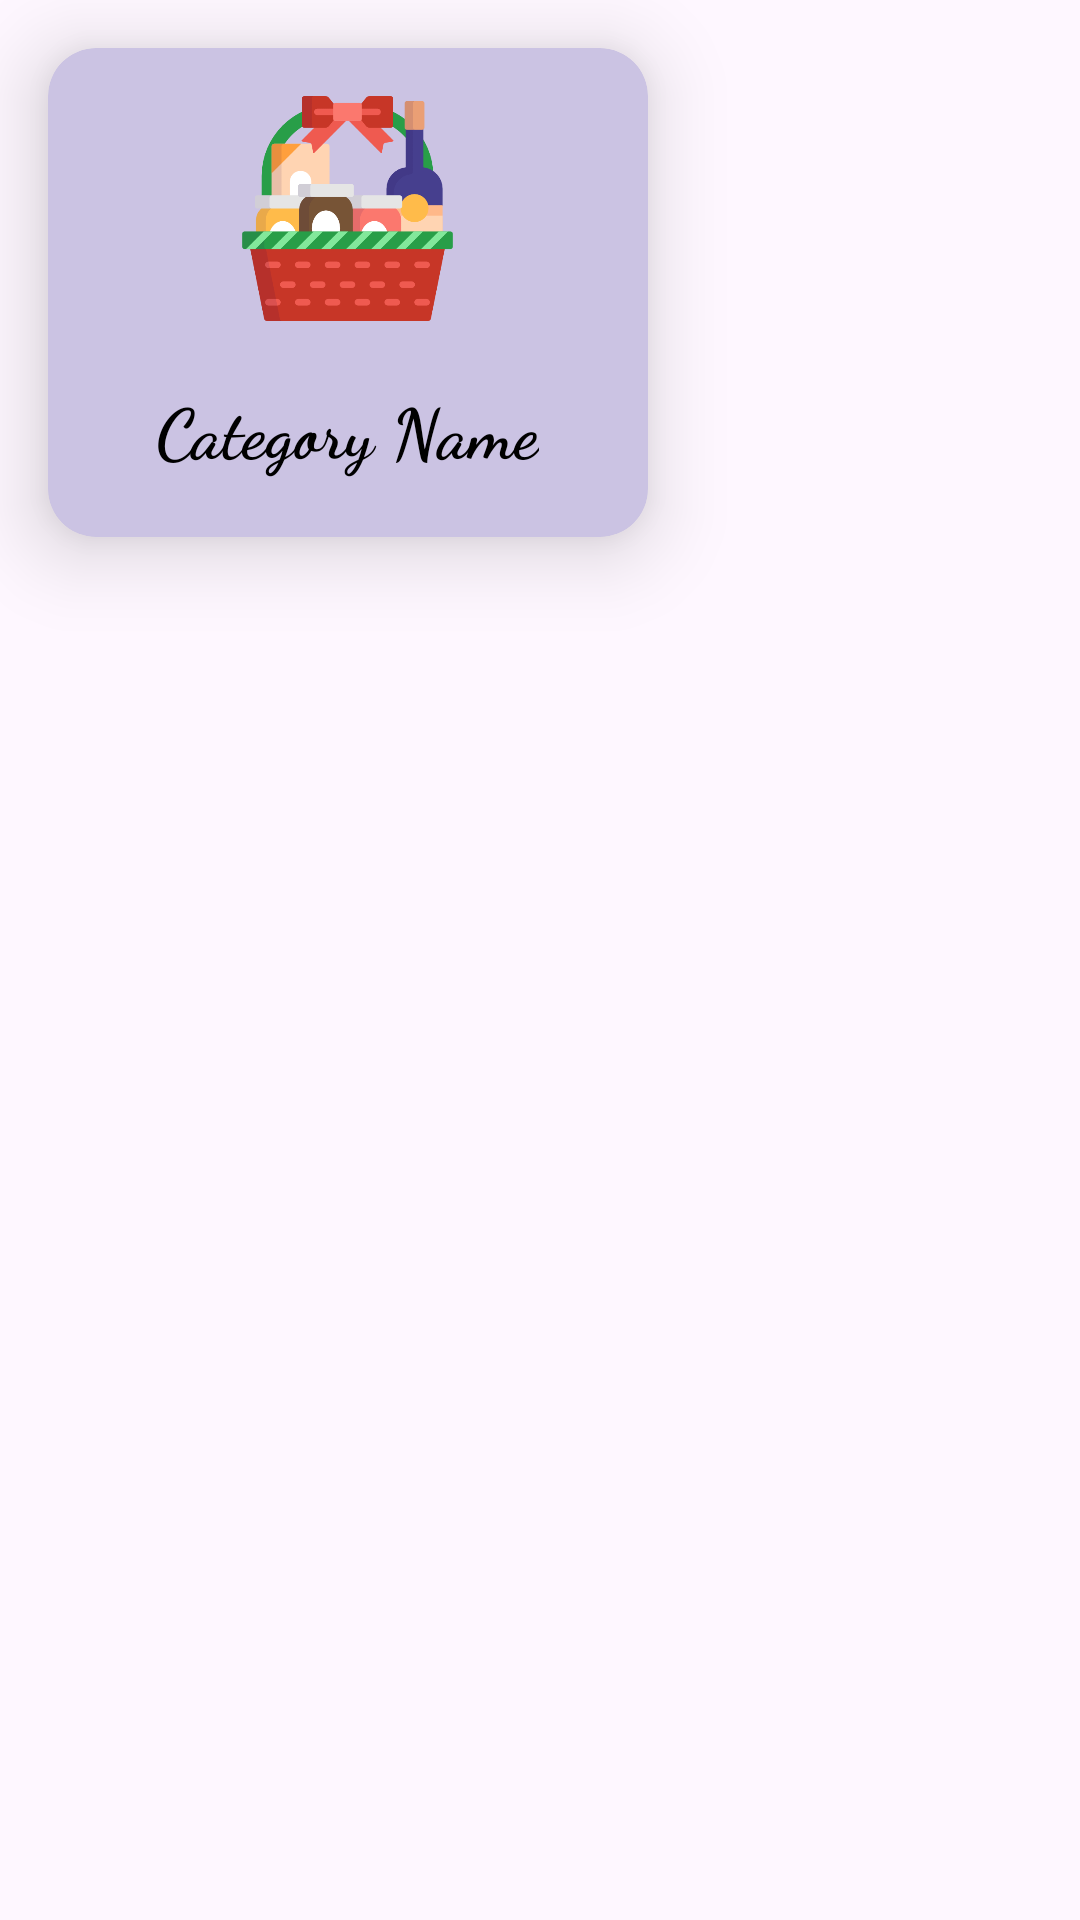

Screen size 1080 x 1920. Icon name, then its center in pixels as [x,y]:
grocery: [347,208]
